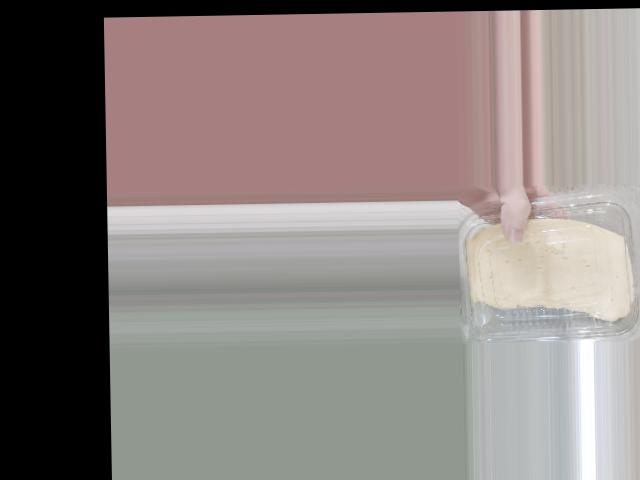cheese: (456, 207, 640, 344)
